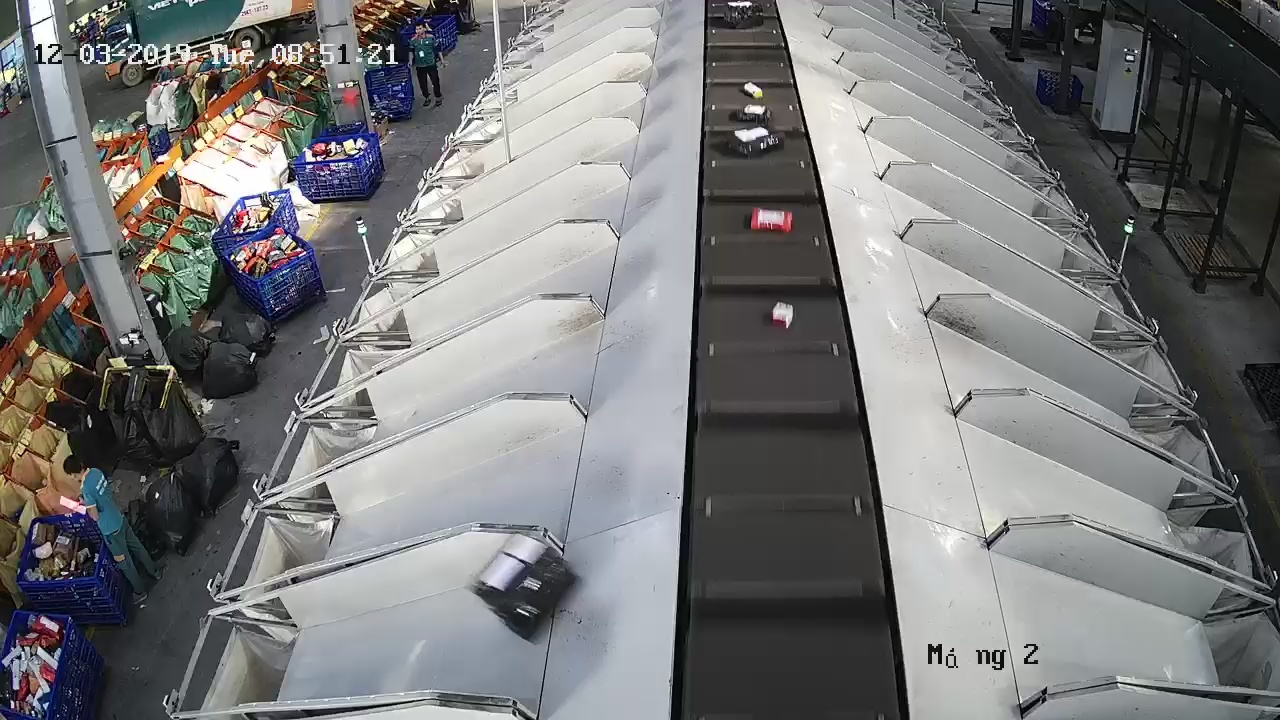parcel: (464, 531, 578, 642)
